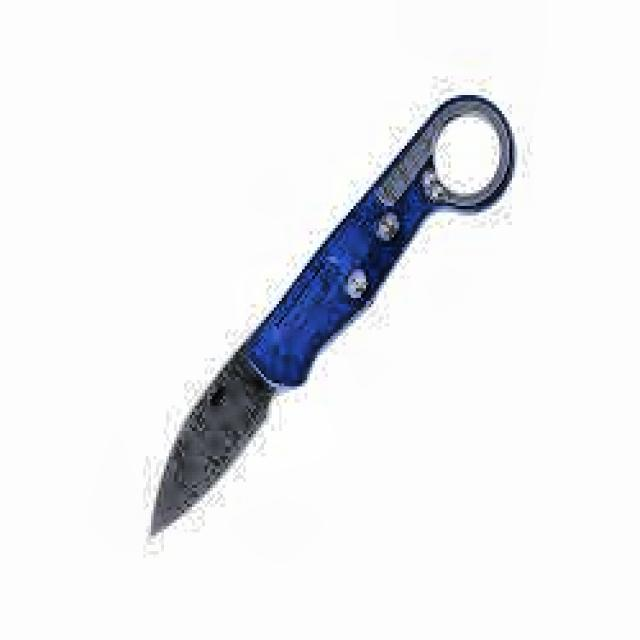knife: (151, 99, 517, 538)
